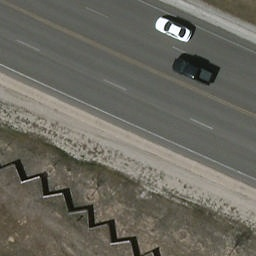car: (155, 17, 193, 42)
pickup: (171, 58, 216, 86)
